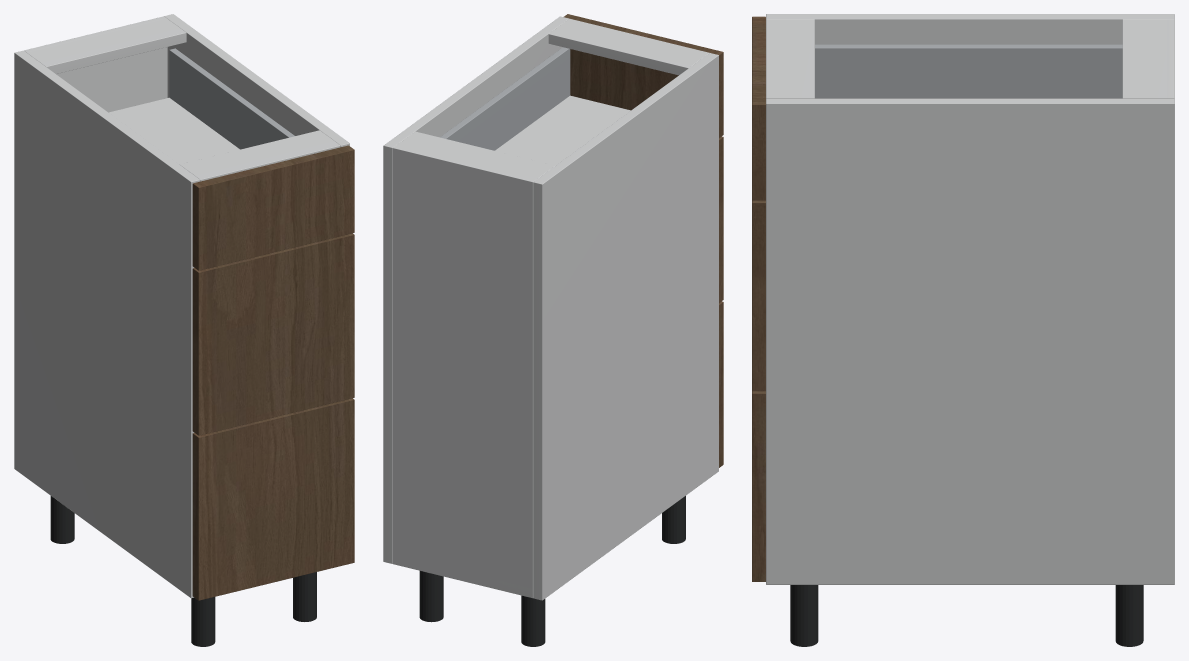
The model's file is oppein-ply-mso-3db12.glb.
The picture shows the model from 3 angles, left to right: view 1: azimuth 30°, elevation 25°; view 2: azimuth 150°, elevation 25°; view 3: azimuth 270°, elevation 25°; orthographic projection. The views are drawn at different scales.
Visible parts, largest first — view 1: Cabinet side, Drawer front, Drawer front.001, Drawer front.002, Drawer side.005, Cabinet back, Cabinet side.001, Drawer floor.002, Top support rail, Top support rail.001, Adjustable foot.001, Adjustable foot.003 (+1 smaller); view 2: Cabinet side, Cabinet back, Cabinet side.001, Drawer side.005, Drawer front.002, Drawer floor.002, Top support rail.001, Top support rail, Adjustable foot, Adjustable foot.002, Adjustable foot.001, Drawer front.001 (+1 smaller); view 3: Cabinet side.001, Drawer side.004, Cabinet side, Top support rail.001, Top support rail, Drawer front.001, Drawer front, Drawer front.002, Adjustable foot.002, Adjustable foot.003, Cabinet back.
Boxes of the visible parts, x1,y1,x2,y2 form: Cabinet side: (14, 50, 200, 598); Drawer front: (192, 398, 354, 600); Drawer front.001: (192, 233, 354, 435); Drawer front.002: (192, 145, 354, 270); Drawer side.005: (169, 48, 294, 149); Cabinet back: (24, 16, 167, 112); Cabinet side.001: (164, 14, 349, 146); Drawer floor.002: (108, 97, 239, 164); Top support rail: (25, 18, 186, 73); Top support rail.001: (179, 130, 340, 181); Adjustable foot.001: (191, 597, 215, 646); Adjustable foot.003: (293, 572, 316, 621); Cabinet side: (533, 53, 718, 600); Cabinet back: (393, 145, 535, 597); Cabinet side.001: (383, 16, 568, 563); Drawer side.005: (440, 47, 570, 150); Drawer front.002: (564, 14, 723, 137); Drawer floor.002: (495, 95, 630, 165); Top support rail.001: (548, 18, 709, 75); Top support rail: (396, 131, 554, 179); Adjustable foot: (521, 595, 545, 646); Adjustable foot.002: (419, 571, 443, 622); Adjustable foot.001: (662, 496, 685, 543); Drawer front.001: (719, 136, 723, 302); Cabinet side.001: (766, 98, 1174, 584); Drawer side.004: (815, 44, 1122, 98); Cabinet side: (766, 14, 1174, 44); Top support rail.001: (766, 19, 814, 98); Top support rail: (1122, 19, 1166, 98); Drawer front.001: (752, 200, 765, 391); Drawer front: (752, 391, 765, 581); Drawer front.002: (752, 16, 765, 200); Adjustable foot.002: (1115, 585, 1143, 646); Adjustable foot.003: (790, 585, 818, 646); Cabinet back: (1167, 19, 1174, 98).
Size of the model in its own units: 0.3048 by 0.8763 by 0.6064.
Materials: 4 (1 with a texture image).
